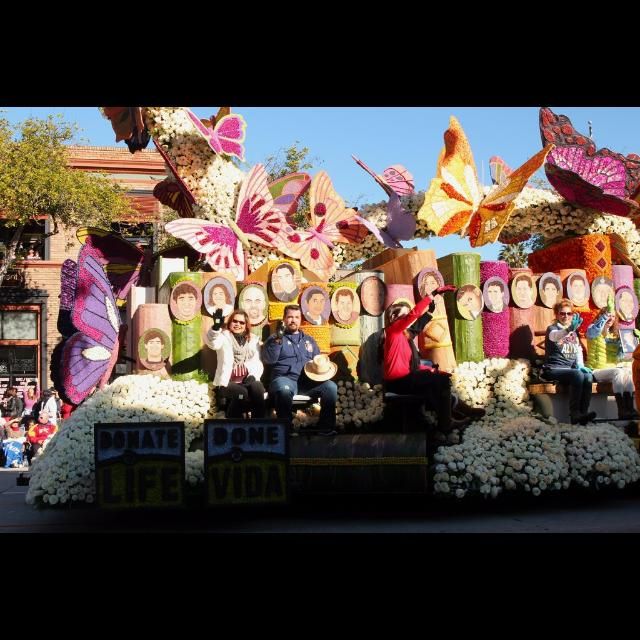Flower: (432, 357, 640, 497), (24, 402, 92, 504), (84, 374, 222, 424), (333, 382, 382, 428), (186, 424, 204, 484), (294, 402, 322, 430), (47, 496, 61, 506)
